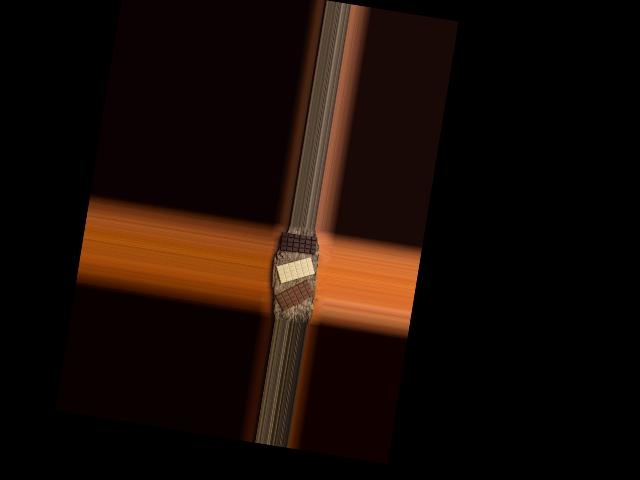chocolate: (278, 230, 318, 255)
